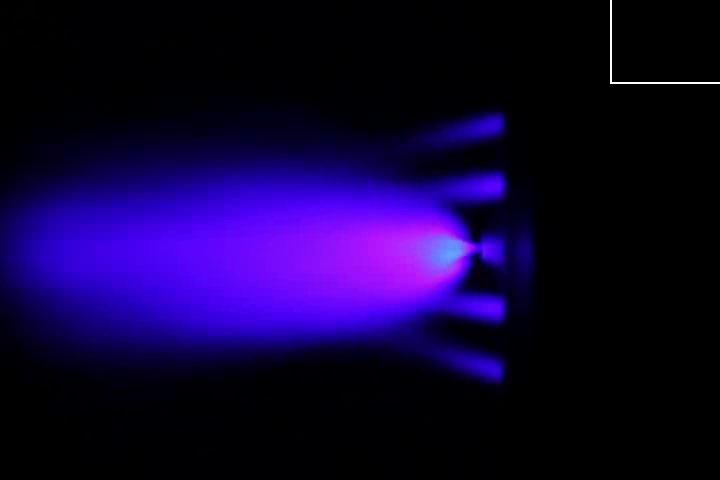burner cap: (479, 233, 511, 274)
pilot flame: (409, 342, 507, 392), (398, 118, 505, 149), (408, 170, 504, 203), (436, 293, 507, 324)
stable: (386, 216, 480, 283)
